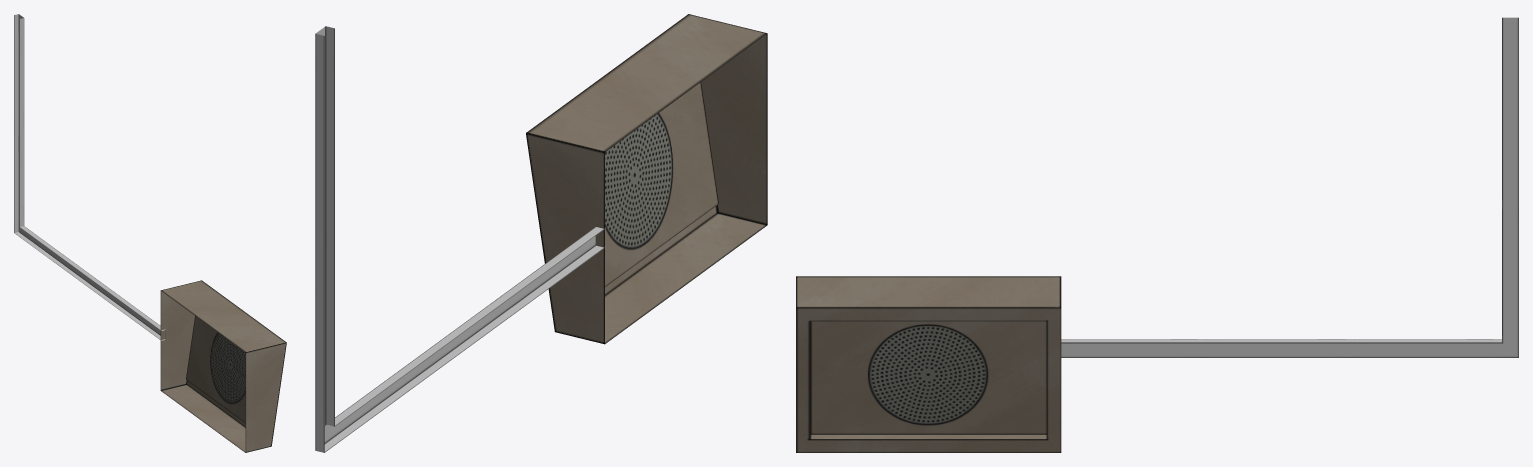
Rendered from speaker.fbx.
3 renders of one model, left to right at view 1: azimuth 30°, elevation 25°; view 2: azimuth 150°, elevation 25°; view 3: azimuth 270°, elevation 25°, orthographic. The views are drawn at different scales.
Parts seen in each view (by area): view 1: polySurface466; view 2: polySurface466; view 3: polySurface466.
Boxes of the visible parts, x1=… form: polySurface466: x1=14, y1=14, x2=286, y2=452; polySurface466: x1=315, y1=14, x2=767, y2=452; polySurface466: x1=796, y1=17, x2=1518, y2=452.
Bounding box in the file's own units: 0.2427 × 1.51 × 2.35.
